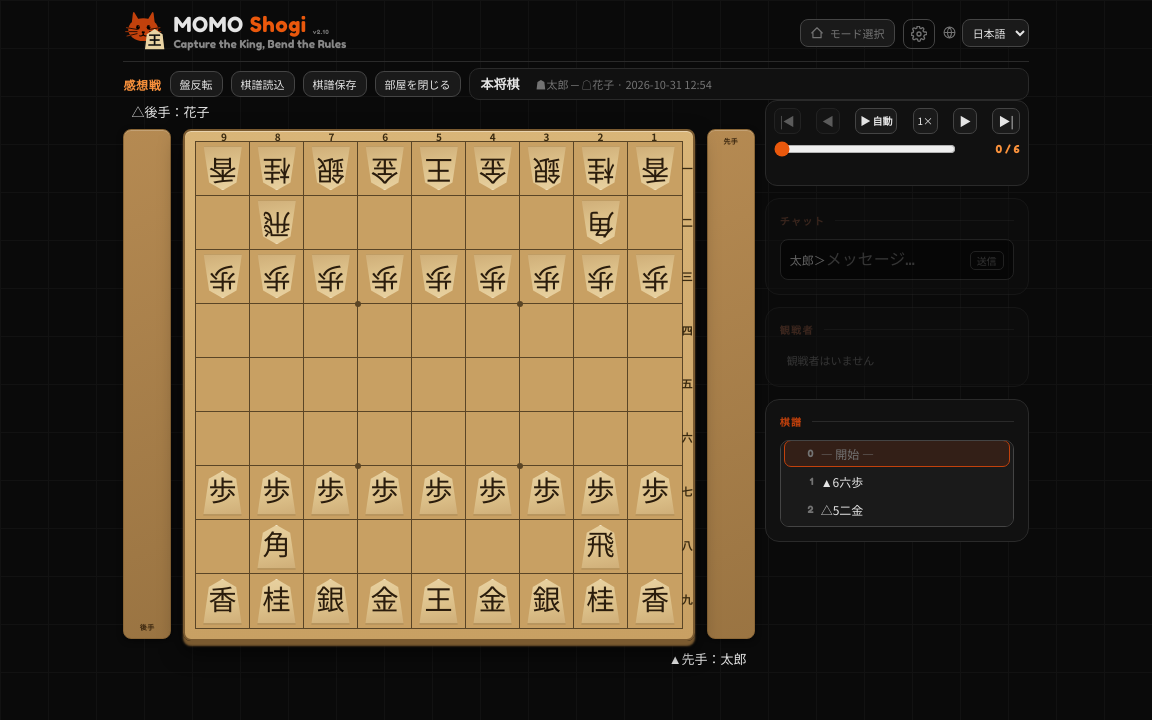
Test: ★S11 部屋を作ったあとの見え方（v1.52・実機のご報告） › ★画面を出たままで部屋を畳めて、畳んだことを知らせる
Click the button "部屋を閉じる": (418, 84) [374,71,460,97]
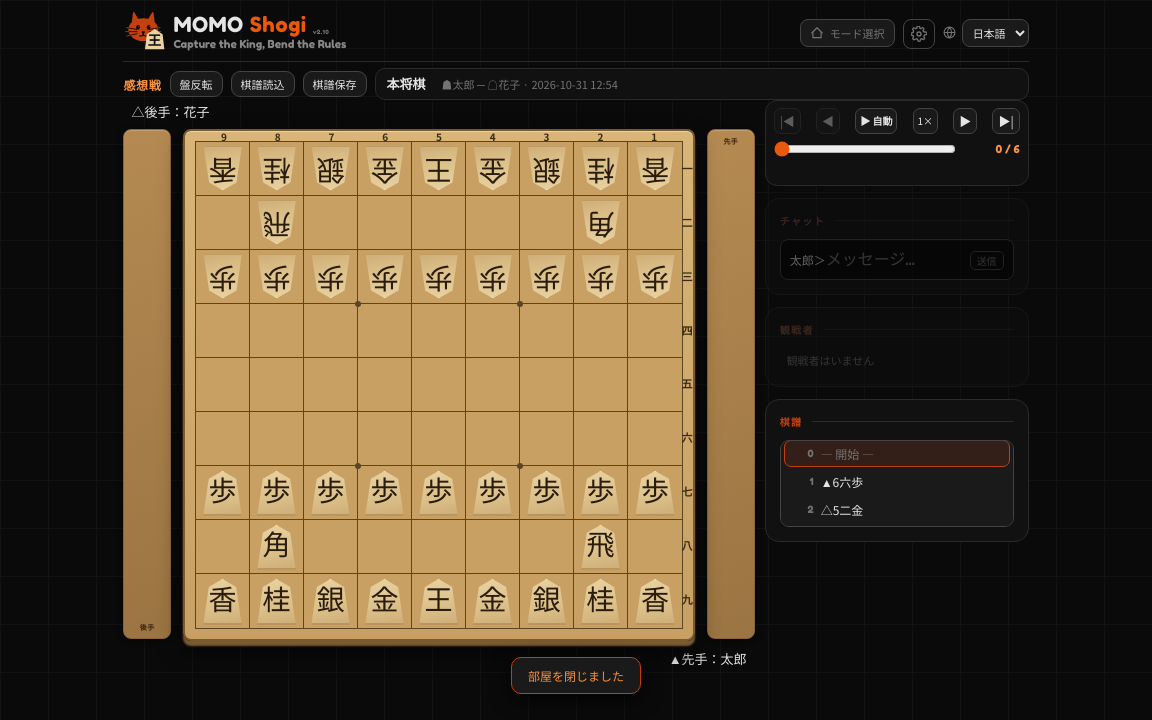
Now the text "部屋を閉じました" is shown, box [511,657,641,694]
